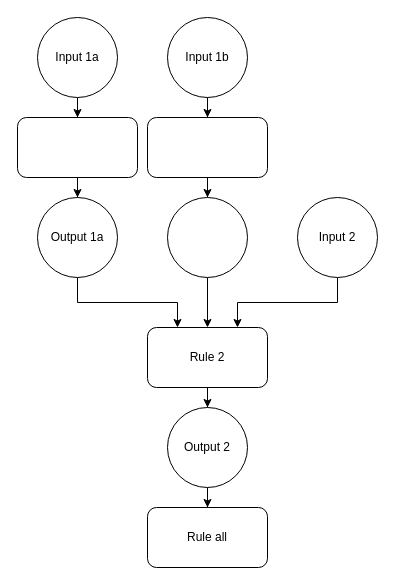
This 395x585 diagram has some shape labels left out. The shapes that lost their labels are listed below. From the top down, each one's centre as x and y in pixels, then its label:
At pixel 77 147: "Rule 1a".
At pixel 207 147: "Rule 1b".
At pixel 207 237: "Output 1b".
